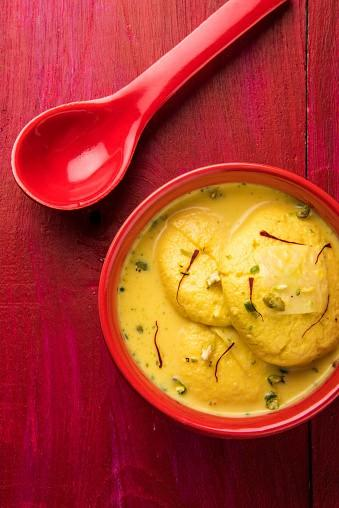RasMalai: (116, 181, 339, 418)
